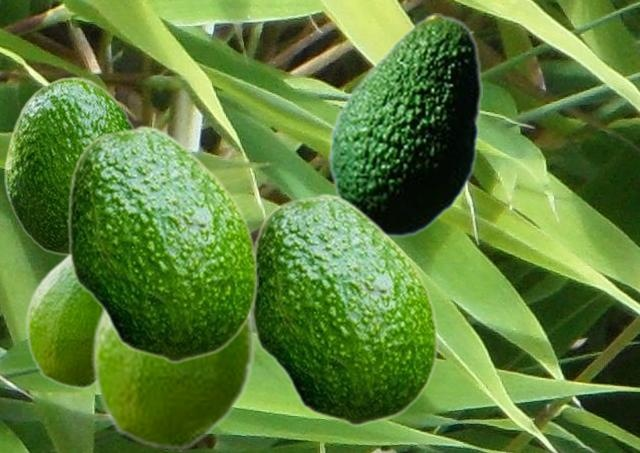avocado: (66, 124, 257, 362), (254, 192, 437, 425), (328, 13, 481, 237), (91, 306, 255, 450), (4, 76, 134, 255), (25, 256, 100, 388)
